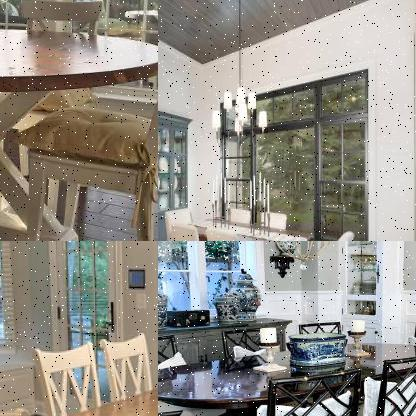table: (0, 18, 157, 240), (158, 336, 415, 415), (4, 369, 157, 415), (183, 211, 317, 240)
